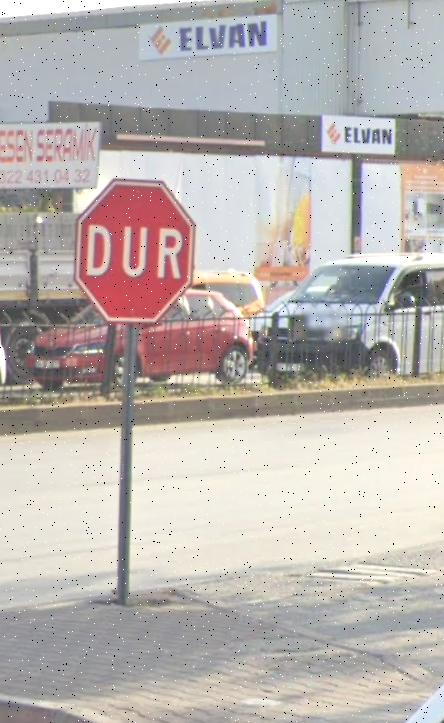stop: (80, 181, 193, 321)
